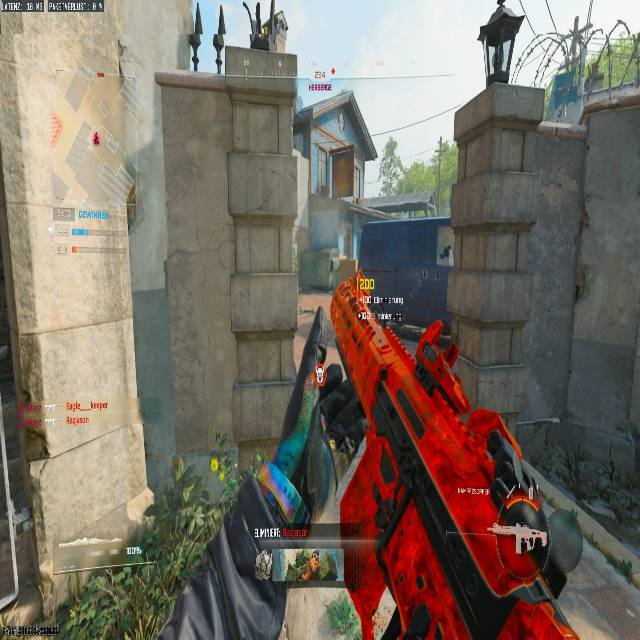player: (299, 551, 320, 582)
